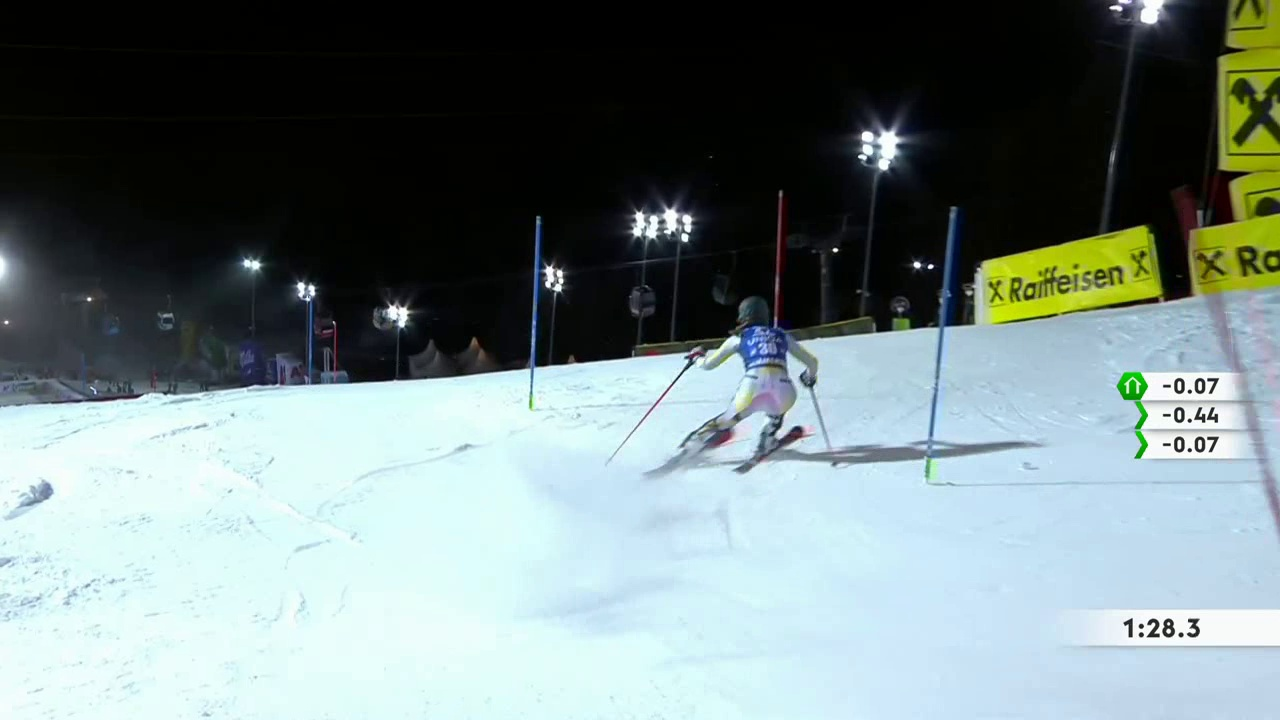raiffeisen: (976, 238, 1160, 325), (1189, 216, 1279, 291), (1218, 64, 1279, 166), (1221, 1, 1276, 37)
